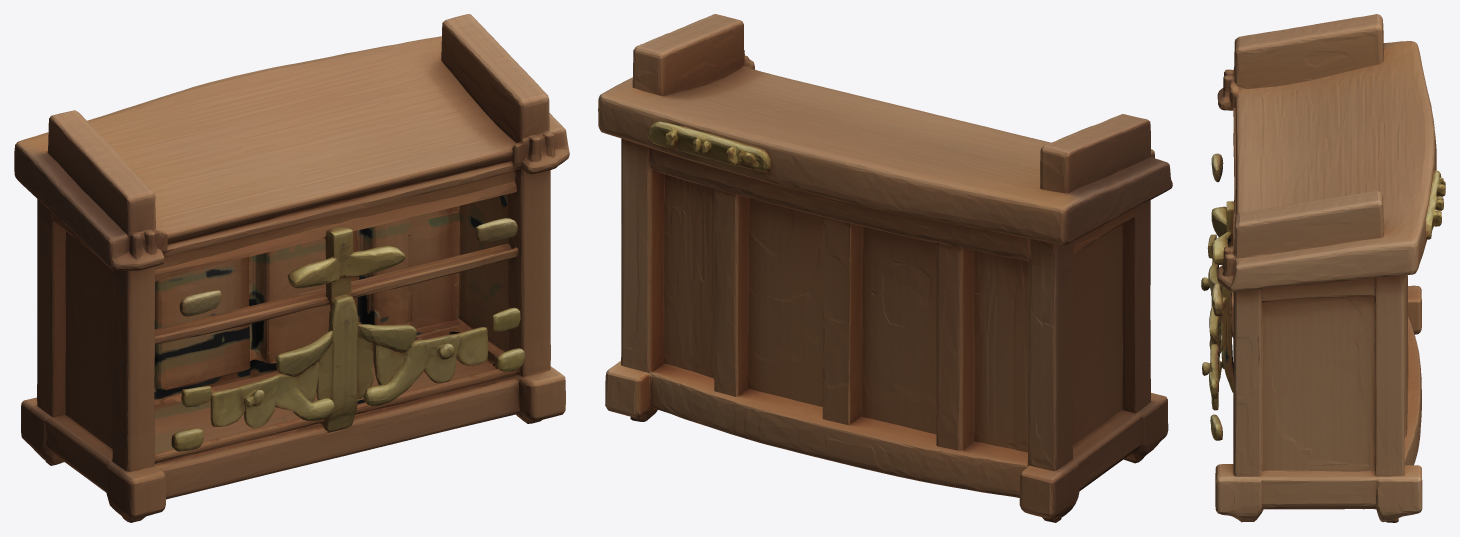
Rendered from s1_takeout_counter.glb.
3 renders of one model, left to right at view 1: azimuth 30°, elevation 25°; view 2: azimuth 150°, elevation 25°; view 3: azimuth 270°, elevation 25°, orthographic. The views are drawn at different scales.
Visible parts, largest first — view 1: world; view 2: world; view 3: world.
Part boxes in pixels (x1=…): world: x1=14, y1=14, x2=569, y2=522; world: x1=598, y1=14, x2=1172, y2=522; world: x1=1201, y1=14, x2=1445, y2=522.
Size of the model in its own units: 0.9999 by 0.7376 by 0.5036.
Materials: 1 (1 with a texture image).
